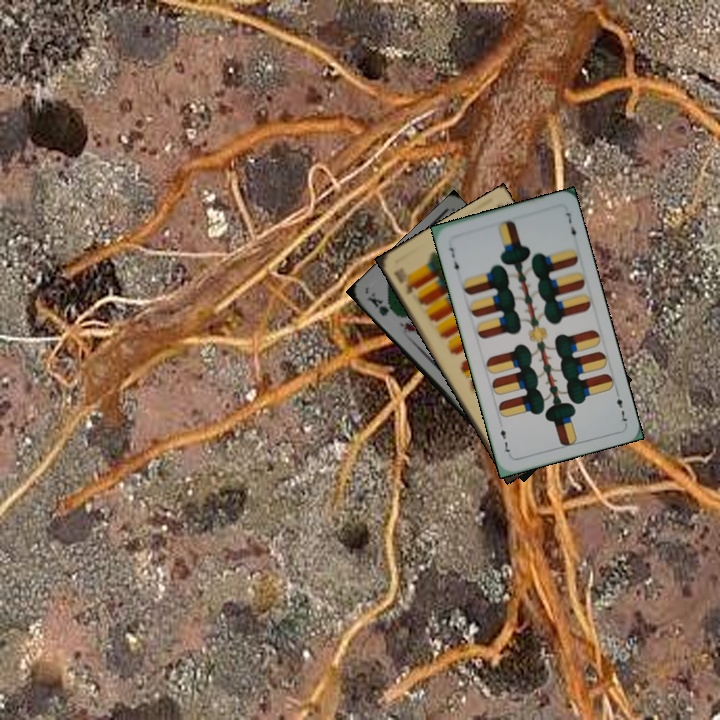E10: (390, 266, 419, 297)
E7: (612, 386, 629, 426), (445, 243, 462, 277)
GK: (362, 288, 392, 319)
